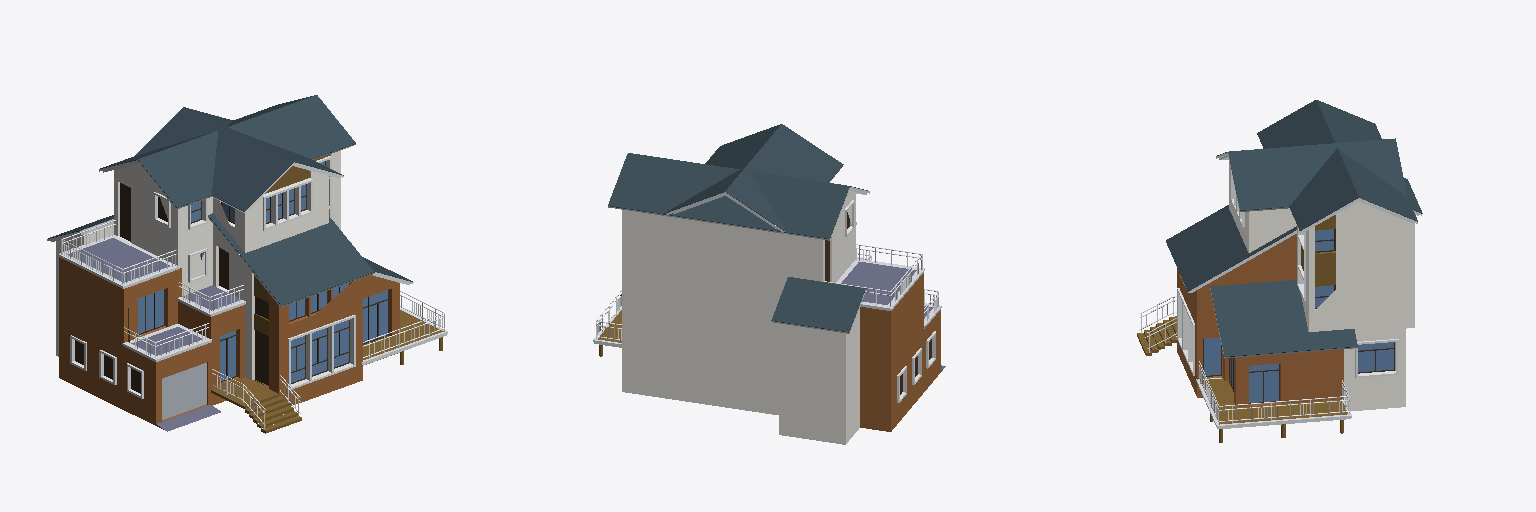
File: villa.obj
3 renders of one model, left to right at view 1: azimuth 30°, elevation 25°; view 2: azimuth 150°, elevation 25°; view 3: azimuth 270°, elevation 25°, orthographic.
Visible parts, largest first — view 1: Line962, Box539, Box538, bl39, Rectangle5919, Rectangle5917, Line961, Object61, Cylinder197, Box540, Rectangle5918, Cylinder198 (+1 smaller); view 2: Box538, Line962, Box539, Line961, Object61, Cylinder197, Rectangle5919; view 3: Line962, Box538, Box539, bl39, Rectangle5919, Cylinder198, Line961, Cylinder197, Box541, Box540, Rectangle5917.
Boxes of the visible parts, x1,y1,x2,y2 form: Line962: [48, 95, 412, 305]; Box539: [59, 257, 399, 425]; Box538: [56, 150, 340, 379]; bl39: [138, 161, 387, 382]; Rectangle5919: [70, 156, 355, 398]; Rectangle5917: [75, 161, 388, 393]; Line961: [47, 144, 447, 365]; Object61: [67, 238, 241, 431]; Cylinder197: [61, 220, 444, 429]; Box540: [211, 377, 301, 433]; Rectangle5918: [162, 363, 206, 419]; Cylinder198: [363, 310, 443, 364]; Box538: [622, 192, 859, 444]; Line962: [608, 124, 867, 332]; Box539: [860, 273, 940, 431]; Line961: [593, 170, 941, 347]; Object61: [841, 262, 945, 371]; Cylinder197: [596, 244, 938, 341]; Rectangle5919: [845, 200, 935, 402]; Line962: [1166, 100, 1422, 356]; Box538: [1229, 161, 1414, 410]; Box539: [1177, 234, 1343, 406]; bl39: [1204, 229, 1393, 402]; Rectangle5919: [1177, 171, 1398, 377]; Cylinder198: [1201, 378, 1347, 442]; Line961: [1188, 152, 1421, 428]; Cylinder197: [1139, 296, 1349, 423]; Box541: [1301, 215, 1335, 286]; Box540: [1137, 316, 1177, 355]; Rectangle5917: [1203, 229, 1394, 403].
Size of the model in its own units: 17080 by 11202 by 13146.